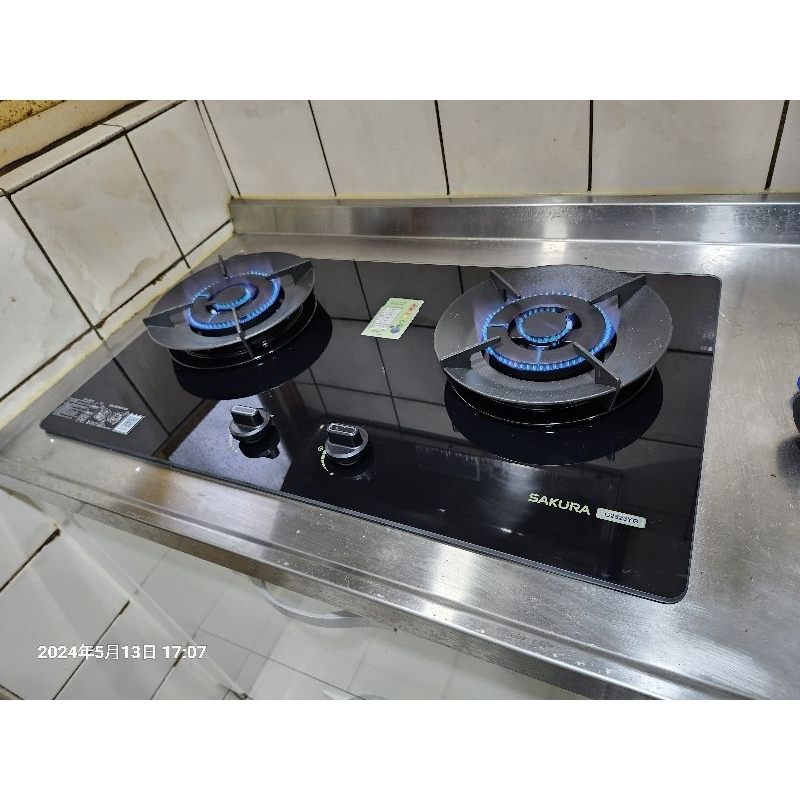gasoven: (37, 242, 719, 611)
